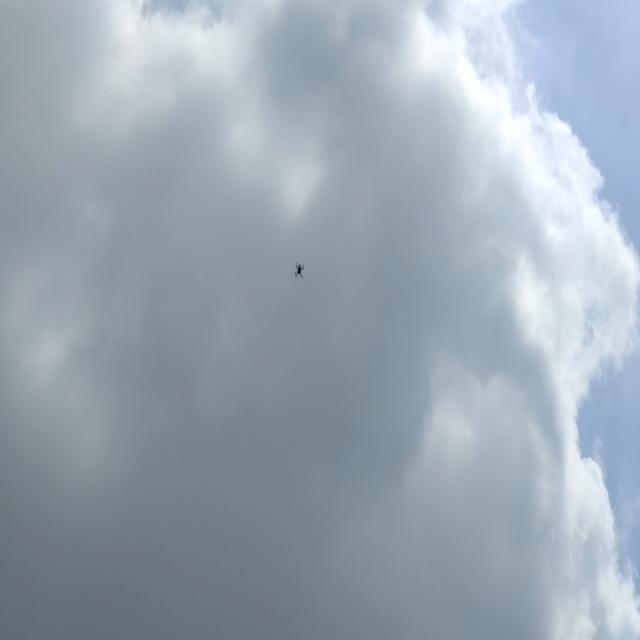drone: (292, 259, 308, 282)
